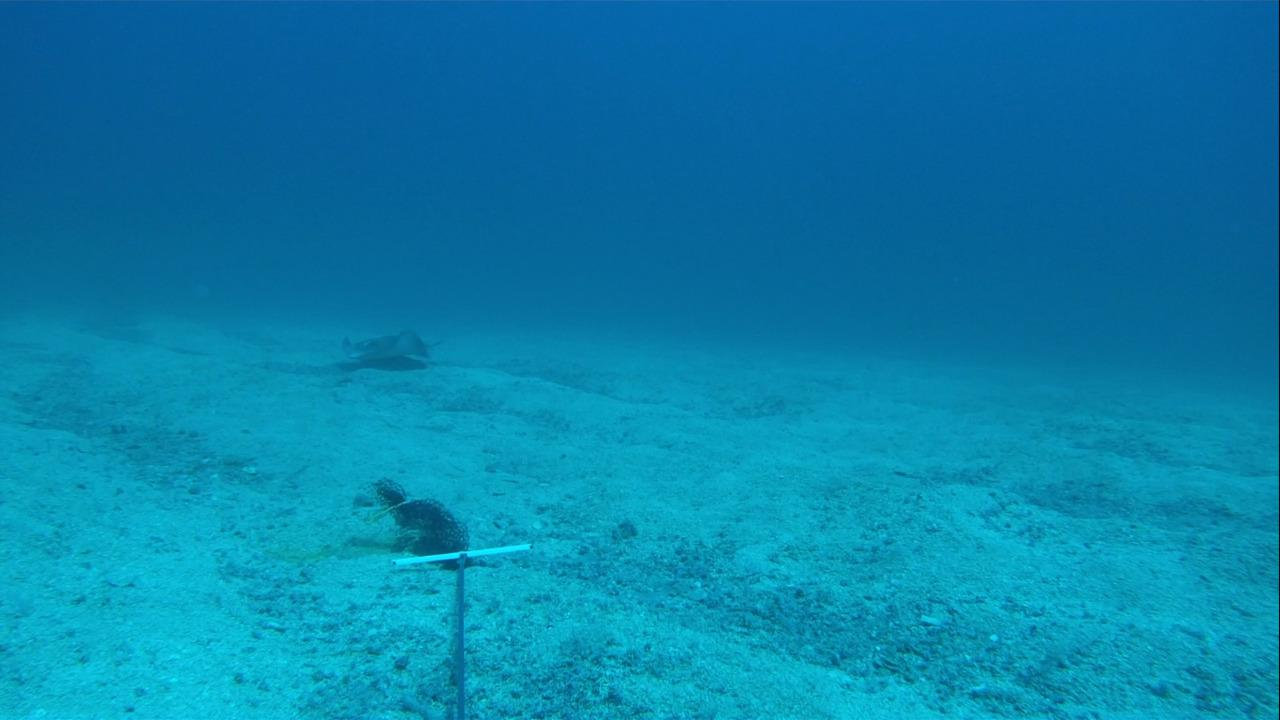myliobatis: (313, 321, 447, 370)
